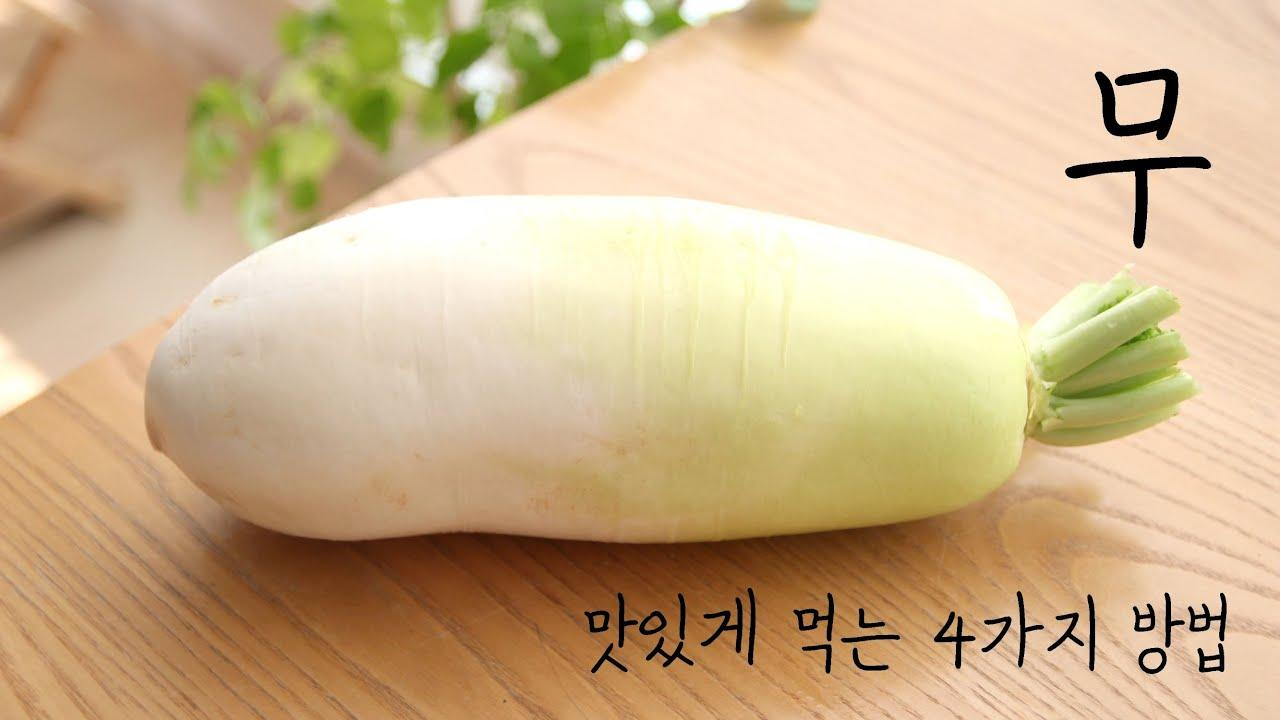radish: (640, 218, 1280, 621)
